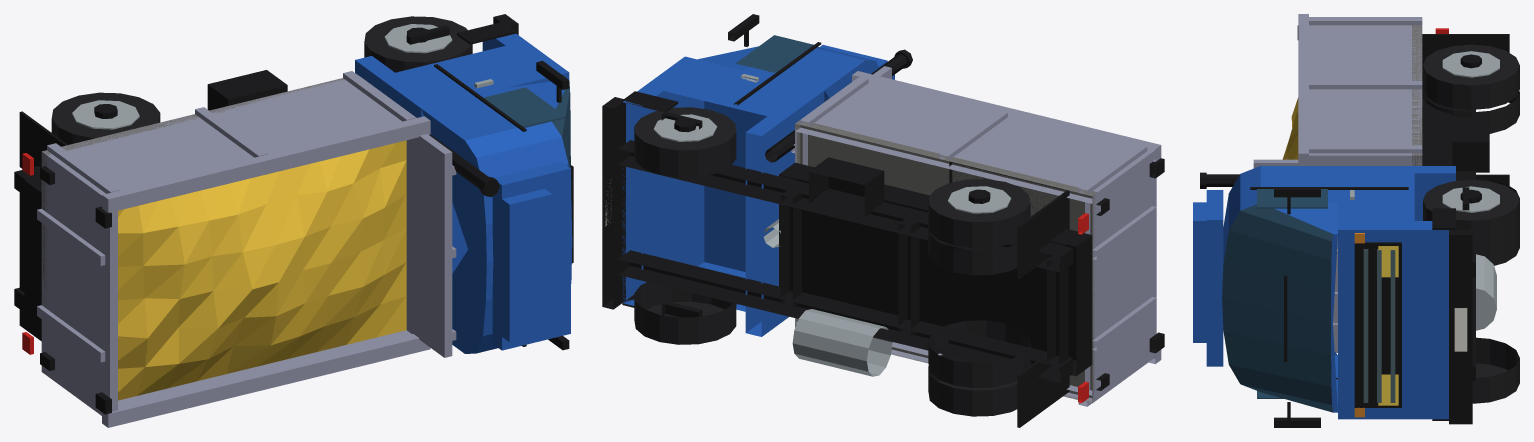
The model's file is loaded.glb.
The picture shows the model from 3 angles, left to right: view 1: azimuth 30°, elevation 25°; view 2: azimuth 150°, elevation 25°; view 3: azimuth 270°, elevation 25°; orthographic projection. The views are drawn at different scales.
Visible parts, largest first — view 1: loaded_load, loaded_bed, loaded_cab_upper, loaded_air_dam_top, loaded_headboard, loaded_air_dam, loaded_cab_arch, loaded_front1, loaded_rear_out1, loaded_subframe, loaded_cab_back, loaded_battery_box (+6 smaller); view 2: loaded_bed, loaded_subframe, loaded_cab_arch, loaded_chassis-1, loaded_chassis1, loaded_cab_back, loaded_front1, loaded_cab_front, loaded_rear_out1, loaded_fuel_tank, loaded_bumper, loaded_front-1 (+13 smaller); view 3: loaded_cab_upper, loaded_bed, loaded_cab_front, loaded_rear_out1, loaded_grille, loaded_front1, loaded_bumper, loaded_cab_arch, loaded_air_dam, loaded_front-1, loaded_battery_box, loaded_air_dam_top (+22 smaller).
Boxes of the visible parts, x1,y1,x2,y2 form: loaded_load: (118,140,406,400); loaded_bed: (37,71,430,427); loaded_cab_upper: (421,81,572,353); loaded_air_dam_top: (502,188,552,342); loaded_headboard: (418,134,452,357); loaded_air_dam: (492,161,570,350); loaded_cab_arch: (395,46,548,273); loaded_front1: (364,16,472,72); loaded_rear_out1: (51,92,160,144); loaded_subframe: (24,176,41,330); loaded_cab_back: (355,56,437,117); loaded_battery_box: (207,70,287,110); loaded_bed: (795,71,1161,406); loaded_subframe: (779,162,1092,376); loaded_cab_arch: (663,61,807,311); loaded_chassis-1: (618,250,1072,382); loaded_chassis1: (618,140,1072,272); loaded_cab_back: (745,86,824,336); loaded_front1: (634,107,736,177); loaded_cab_front: (622,56,704,305); loaded_rear_out1: (928,179,1030,247); loaded_fuel_tank: (792,309,892,376); loaded_bumper: (602,97,625,309); loaded_front-1: (634,282,736,344); loaded_cab_upper: (1222,166,1337,412); loaded_bed: (1298,14,1422,352); loaded_cab_front: (1338,221,1448,419); loaded_rear_out1: (1423,44,1519,109); loaded_grille: (1354,242,1401,407); loaded_front1: (1423,179,1519,246); loaded_bumper: (1449,230,1472,424); loaded_cab_arch: (1338,173,1414,220); loaded_air_dam: (1206,190,1223,366); loaded_front-1: (1472,337,1519,403); loaded_battery_box: (1452,116,1489,172); loaded_air_dam_top: (1193,202,1206,342).
Bounding box in the file's own units: 7.6 × 3.9 × 4.85.
